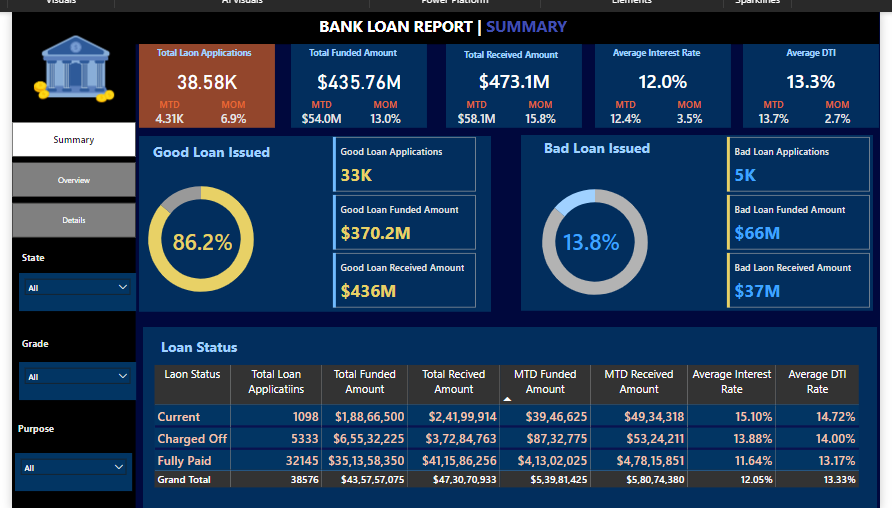

The page's visual inventory and layout, read from the dashboard file:
{"tool":"powerbi","page":{"name":"Summary","canvas":[1480,850],"ordinal":0},"visuals":[{"type":"textbox","box":[0,0,1479.8,54.6],"z":0},{"type":"textbox","box":[0,54.6,211,795.4],"z":1000},{"type":"textbox","box":[518.9,0,443.8,54.6],"z":2000},{"type":"group","id":"g1","title":"Group 1","box":[216.8,54.6,232.1,143.4],"z":3000},{"type":"shape","box":[216.8,54.6,232.1,143.4],"z":3000,"group":"g1"},{"type":"shape","box":[476.2,54.6,232.1,143.4],"z":3000,"group":"g2"},{"type":"shape","box":[740.8,54.6,232.1,143.4],"z":3000,"group":"g3"},{"type":"shape","box":[995.1,54.6,232.1,143.4],"z":3000,"group":"g4"},{"type":"shape","box":[1247.7,54.6,232.1,143.4],"z":3000,"group":"g5"},{"type":"group","id":"g2","title":"Group 1","box":[476.2,54.6,232.1,143.4],"z":4000},{"type":"card","fields":{"Values":["All Measures.Total Loan Applications"]},"box":[216.8,87,232.1,59.7],"z":4000,"group":"g1"},{"type":"card","fields":{"Values":["All Measures.Toatl Funded Amount"]},"box":[476.2,87,232.1,59.7],"z":4000,"group":"g2"},{"type":"card","fields":{"Values":["All Measures.Total Recived Amount"]},"box":[740.8,87,232.1,59.7],"z":4000,"group":"g3"},{"type":"card","fields":{"Values":["All Measures.Average Interest Rate"]},"box":[995.1,87,232.1,59.7],"z":4000,"group":"g4"},{"type":"card","fields":{"Values":["All Measures.Average DTI Rate"]},"box":[1247.7,87,232.1,59.7],"z":4000,"group":"g5"},{"type":"textbox","box":[242.4,54.6,180.9,34.1],"z":5000,"group":"g1"},{"type":"textbox","box":[501.8,54.6,180.9,34.1],"z":5000,"group":"g2"},{"type":"textbox","box":[766.4,54.6,180.9,34.1],"z":5000,"group":"g3"},{"type":"textbox","box":[1020.7,54.6,180.9,34.1],"z":5000,"group":"g4"},{"type":"textbox","box":[1273.3,54.6,180.9,34.1],"z":5000,"group":"g5"},{"type":"shape","box":[216.8,211.6,600.8,300.4],"z":5000},{"type":"card","title":"MTD","fields":{"Values":["All Measures.MTD Loan Applications"]},"box":[223.6,146.8,90.5,51.2],"z":6000,"group":"g1"},{"type":"card","title":"MTD","fields":{"Values":["All Measures.MTD Funded Amount"]},"box":[483,146.8,90.5,51.2],"z":6000,"group":"g2"},{"type":"card","title":"MTD","fields":{"Values":["All Measures.MTD Received Amount"]},"box":[747.6,146.8,90.5,51.2],"z":6000,"group":"g3"},{"type":"card","title":"MTD","fields":{"Values":["All Measures.MTD Interest Rate"]},"box":[1001.9,146.8,90.5,51.2],"z":6000,"group":"g4"},{"type":"card","title":"MTD","fields":{"Values":["All Measures.MTD DTI Rate"]},"box":[1254.5,146.8,90.5,51.2],"z":6000,"group":"g5"},{"type":"card","fields":{"Values":["All Measures.Good Loan %"]},"box":[264.6,361.8,121.2,59.7],"z":6000},{"type":"card","title":"MOM","fields":{"Values":["All Measures.MOM Loan Applications"]},"box":[332.9,146.8,90.5,51.2],"z":7000,"group":"g1"},{"type":"card","title":"MOM","fields":{"Values":["All Measures.MOM Funded Amount"]},"box":[592.3,146.8,90.5,51.2],"z":7000,"group":"g2"},{"type":"card","title":"MOM","fields":{"Values":["All Measures.MOM Received Amount"]},"box":[856.9,146.8,90.5,51.2],"z":7000,"group":"g3"},{"type":"card","title":"MOM","fields":{"Values":["All Measures.MOM Averate Interest Rate"]},"box":[1111.2,146.8,90.5,51.2],"z":7000,"group":"g4"},{"type":"card","title":"MOM","fields":{"Values":["All Measures.MOM DTI Rate"]},"box":[1363.8,146.8,90.5,51.2],"z":7000,"group":"g5"},{"type":"textbox","box":[227,216.8,227,52.9],"z":7000},{"type":"group","id":"g3","title":"Group 1","box":[740.8,54.6,232.1,143.4],"z":8000},{"type":"group","id":"g4","title":"Group 1","box":[995.1,54.6,232.1,143.4],"z":9000},{"type":"shape","box":[223.6,537.7,1252.8,310.6],"z":10000},{"type":"group","id":"g5","title":"Group 1","box":[1247.7,54.6,232.1,143.4],"z":11000},{"type":"donutChart","fields":{"Category":["bankloandb loan_data.Goad Loan Vs Bad Loan"],"Y":["All Measures.Total Loan Applicatiins"]},"box":[198,269.7,249.2,235.5],"z":12000},{"type":"shape","box":[868.8,209.9,600.8,300.4],"z":13000},{"type":"cardVisual","fields":{"Data":["All Measures.Good Loan Applications","All Measures.Good Funded Amount","All Measures.Good Received Amount"]},"box":[542.8,208.2,254.3,302.1],"z":14000},{"type":"donutChart","fields":{"Category":["bankloandb loan_data.Goad Loan Vs Bad Loan"],"Y":["All Measures.Total Loan Applicatiins"]},"box":[870.5,274.8,249.2,235.5],"z":15000},{"type":"textbox","box":[880.7,209.9,242.4,52.9],"z":16000},{"type":"cardVisual","fields":{"Data":["All Measures.Bad Loan Applications","All Measures.Bad Loan Funded Amount","All Measures.Bad Laon Received Amount"]},"box":[1215.3,208.2,254.3,302.1],"z":17000},{"type":"card","fields":{"Values":["All Measures.Bad Loan %"]},"box":[928.5,361.8,121.2,59.7],"z":18000},{"type":"tableEx","fields":{"Values":["bankloandb loan_data.loan_status","All Measures.Total Loan Applicatiins","All Measures.Total Funded Amount","All Measures.Total Recived Amount","All Measures.MTD Funded Amount","All Measures.MTD Received Amount","All Measures.Average Interest Rate","All Measures.Average DTI Rate"]},"box":[237.2,597.4,1237.4,237.2],"z":19000},{"type":"textbox","box":[242.4,550,172.4,46.1],"z":20000},{"type":"slicer","fields":{"Values":["bankloandb loan_data.address_state"]},"box":[11.9,445.5,199.7,64.9],"z":21000},{"type":"textbox","box":[11.9,402.8,100.7,42.7],"z":22000},{"type":"slicer","fields":{"Values":["bankloandb loan_data.grade"]},"box":[11.9,597.4,199.7,64.9],"z":23000},{"type":"textbox","box":[11.9,549.6,100.7,42.7],"z":24000},{"type":"slicer","fields":{"Values":["bankloandb loan_data.purpose"]},"box":[5.1,752.7,199.7,64.9],"z":25000},{"type":"textbox","box":[5.1,694.7,100.7,42.7],"z":26000},{"type":"pageNavigator","box":[0,187.8,211.6,199.7],"z":27000},{"type":"image","box":[32.4,22.2,150,150.2],"z":28000}]}

Visuals, with their boxes on the page's 1480x850 design canvas (x1, y1, x2, y2). These are canvas units, not pixel positions in the 892x508 screenshot, which may show the page scaled, cropped or inside an application window:
textbox: [left=0, top=0, right=1480, bottom=55]
textbox: [left=0, top=55, right=211, bottom=850]
textbox: [left=519, top=0, right=963, bottom=55]
"Group 1" group: [left=217, top=55, right=449, bottom=198]
shape: [left=217, top=55, right=449, bottom=198]
shape: [left=476, top=55, right=708, bottom=198]
shape: [left=741, top=55, right=973, bottom=198]
shape: [left=995, top=55, right=1227, bottom=198]
shape: [left=1248, top=55, right=1480, bottom=198]
"Group 1" group: [left=476, top=55, right=708, bottom=198]
card - All Measures.Total Loan Applications: [left=217, top=87, right=449, bottom=147]
card - All Measures.Toatl Funded Amount: [left=476, top=87, right=708, bottom=147]
card - All Measures.Total Recived Amount: [left=741, top=87, right=973, bottom=147]
card - All Measures.Average Interest Rate: [left=995, top=87, right=1227, bottom=147]
card - All Measures.Average DTI Rate: [left=1248, top=87, right=1480, bottom=147]
textbox: [left=242, top=55, right=423, bottom=89]
textbox: [left=502, top=55, right=683, bottom=89]
textbox: [left=766, top=55, right=947, bottom=89]
textbox: [left=1021, top=55, right=1202, bottom=89]
textbox: [left=1273, top=55, right=1454, bottom=89]
shape: [left=217, top=212, right=818, bottom=512]
"MTD" card: [left=224, top=147, right=314, bottom=198]
"MTD" card: [left=483, top=147, right=574, bottom=198]
"MTD" card: [left=748, top=147, right=838, bottom=198]
"MTD" card: [left=1002, top=147, right=1092, bottom=198]
"MTD" card: [left=1254, top=147, right=1345, bottom=198]
card - All Measures.Good Loan %: [left=265, top=362, right=386, bottom=422]
"MOM" card: [left=333, top=147, right=423, bottom=198]
"MOM" card: [left=592, top=147, right=683, bottom=198]
"MOM" card: [left=857, top=147, right=947, bottom=198]
"MOM" card: [left=1111, top=147, right=1202, bottom=198]
"MOM" card: [left=1364, top=147, right=1454, bottom=198]
textbox: [left=227, top=217, right=454, bottom=270]
"Group 1" group: [left=741, top=55, right=973, bottom=198]
"Group 1" group: [left=995, top=55, right=1227, bottom=198]
shape: [left=224, top=538, right=1476, bottom=848]
"Group 1" group: [left=1248, top=55, right=1480, bottom=198]
donutChart - bankloandb loan_data.Goad Loan Vs Bad Loan x All Measures.Total Loan Applicatiins: [left=198, top=270, right=447, bottom=505]
shape: [left=869, top=210, right=1470, bottom=510]
cardVisual - All Measures.Good Loan Applications x All Measures.Good Funded Amount: [left=543, top=208, right=797, bottom=510]
donutChart - bankloandb loan_data.Goad Loan Vs Bad Loan x All Measures.Total Loan Applicatiins: [left=870, top=275, right=1120, bottom=510]
textbox: [left=881, top=210, right=1123, bottom=263]
cardVisual - All Measures.Bad Loan Applications x All Measures.Bad Loan Funded Amount: [left=1215, top=208, right=1470, bottom=510]
card - All Measures.Bad Loan %: [left=928, top=362, right=1050, bottom=422]
tableEx - bankloandb loan_data.loan_status x All Measures.Total Loan Applicatiins: [left=237, top=597, right=1475, bottom=835]
textbox: [left=242, top=550, right=415, bottom=596]
slicer - bankloandb loan_data.address_state: [left=12, top=446, right=212, bottom=510]
textbox: [left=12, top=403, right=113, bottom=446]
slicer - bankloandb loan_data.grade: [left=12, top=597, right=212, bottom=662]
textbox: [left=12, top=550, right=113, bottom=592]
slicer - bankloandb loan_data.purpose: [left=5, top=753, right=205, bottom=818]
textbox: [left=5, top=695, right=106, bottom=737]
pageNavigator: [left=0, top=188, right=212, bottom=388]
image: [left=32, top=22, right=182, bottom=172]
